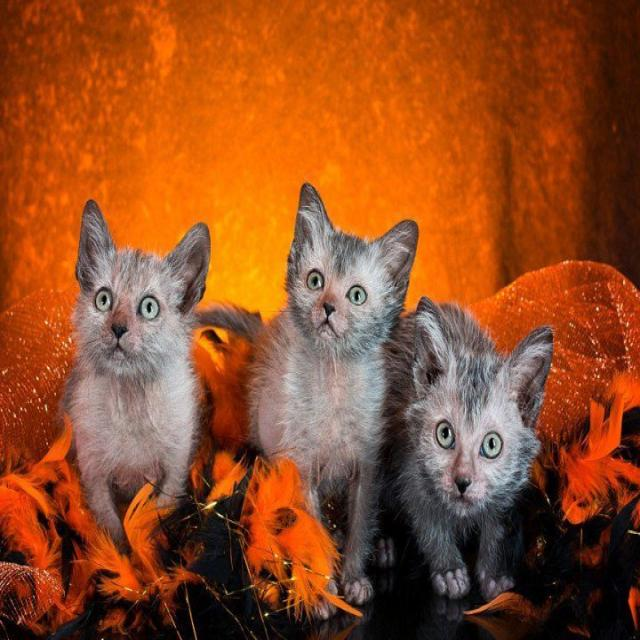Lykoi: (244, 175, 422, 610), (384, 291, 558, 608), (64, 201, 215, 540)
